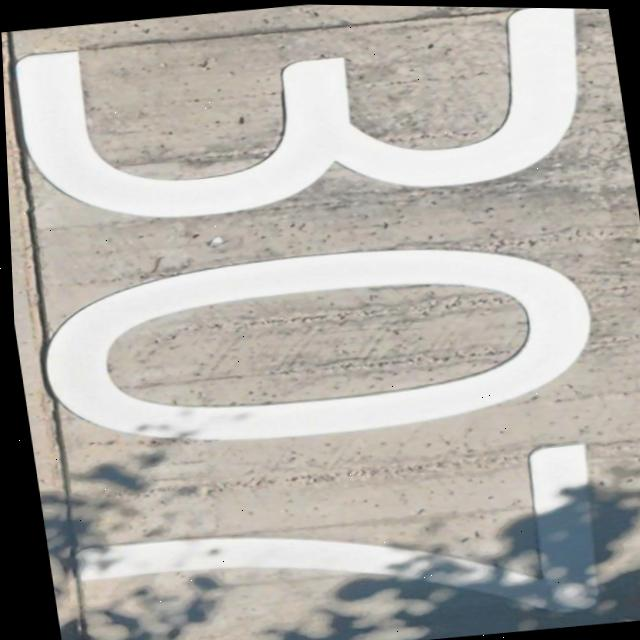character: (14, 219, 612, 474), (0, 0, 610, 244), (47, 427, 617, 640)
